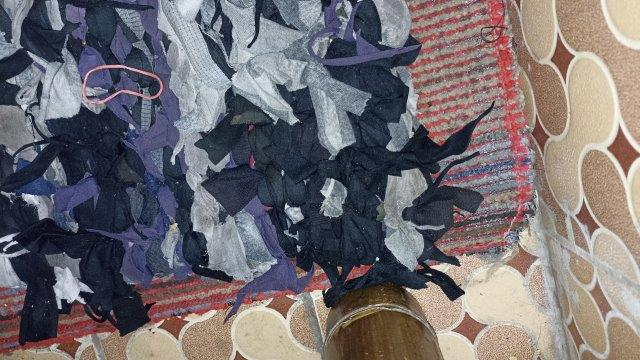karet: (82, 64, 163, 104)
